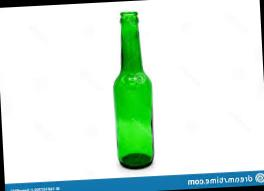glass: (84, 1, 174, 178)
